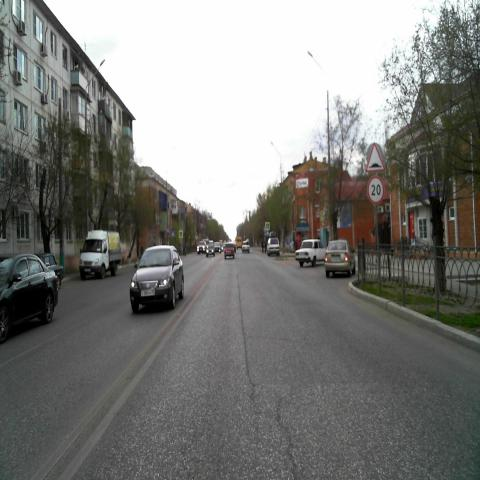1_17: (365, 140, 385, 172)
